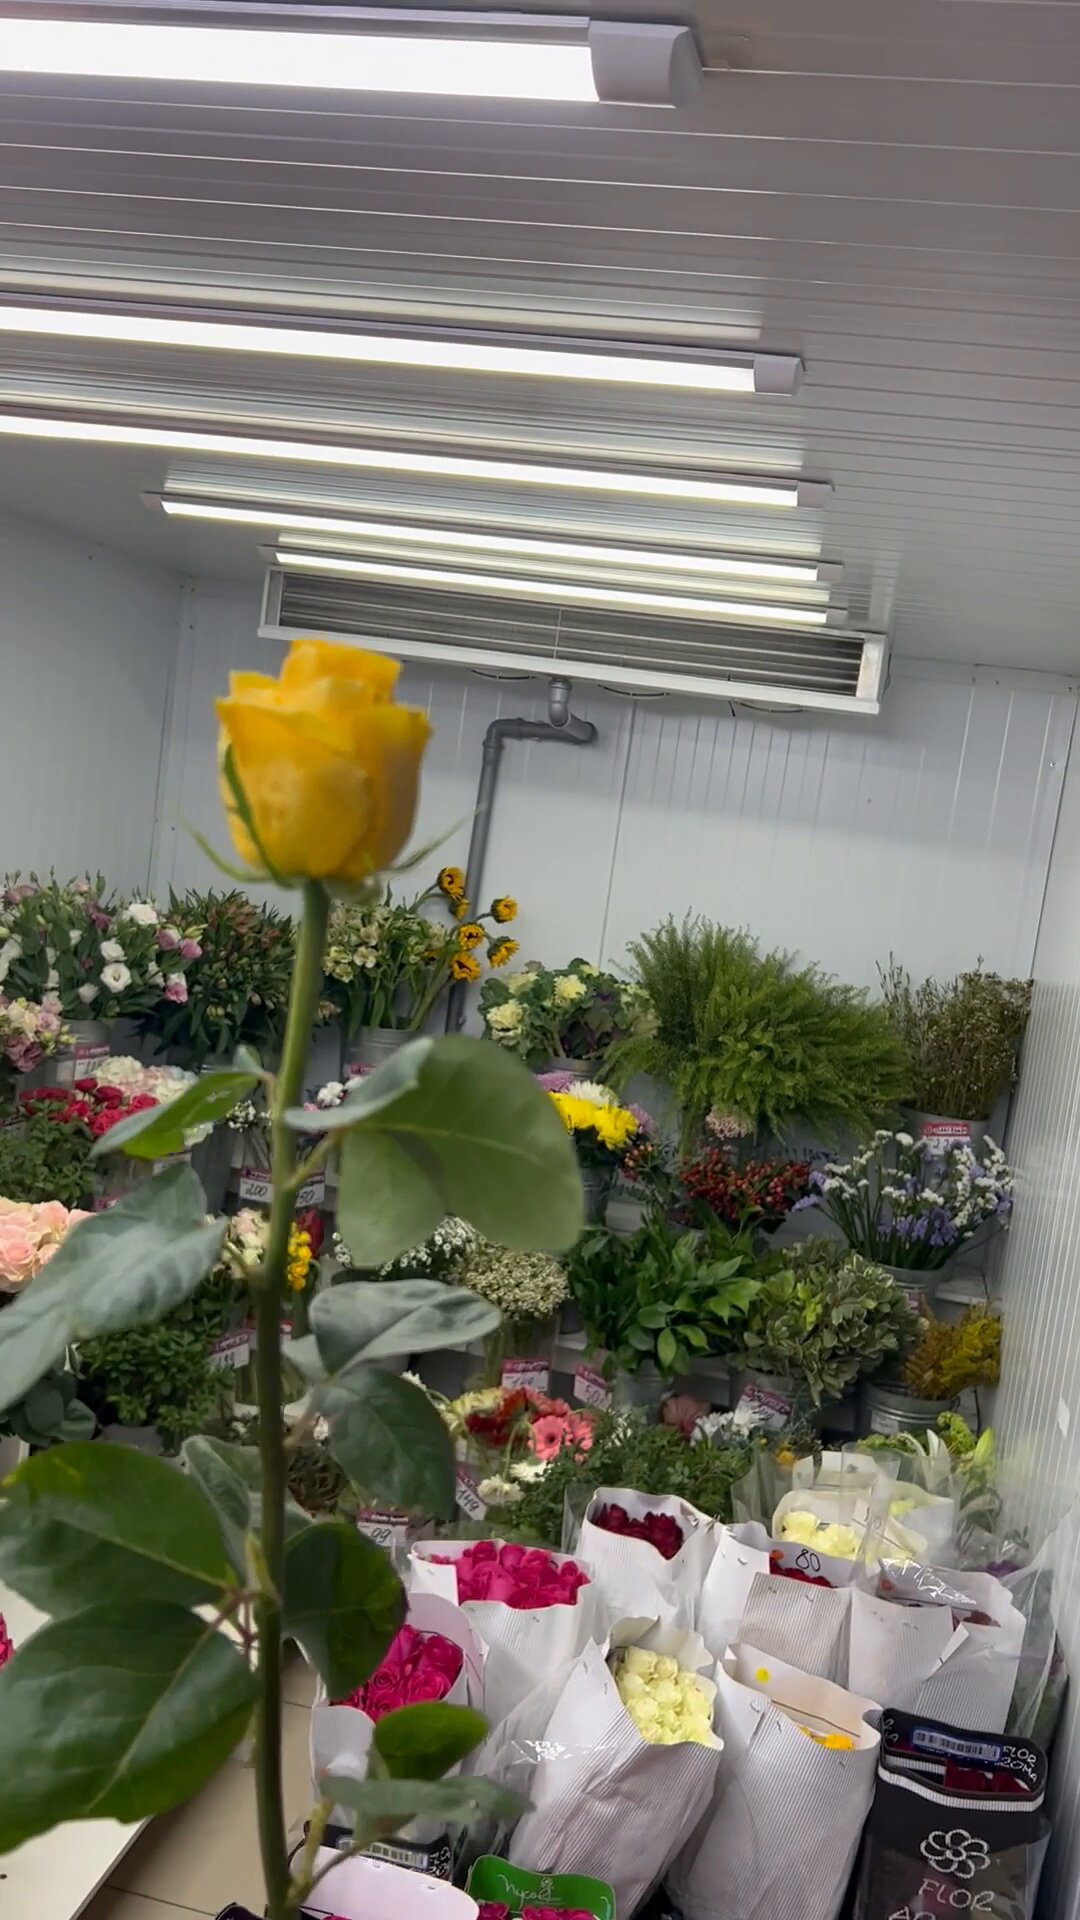rose: (40, 633, 566, 1920)
